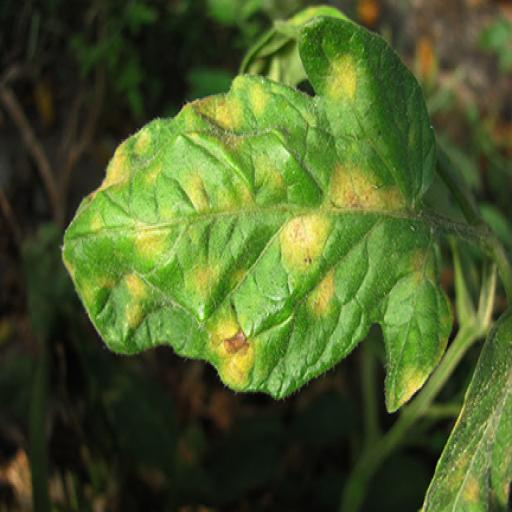disease_tomato: (61, 12, 463, 414)
